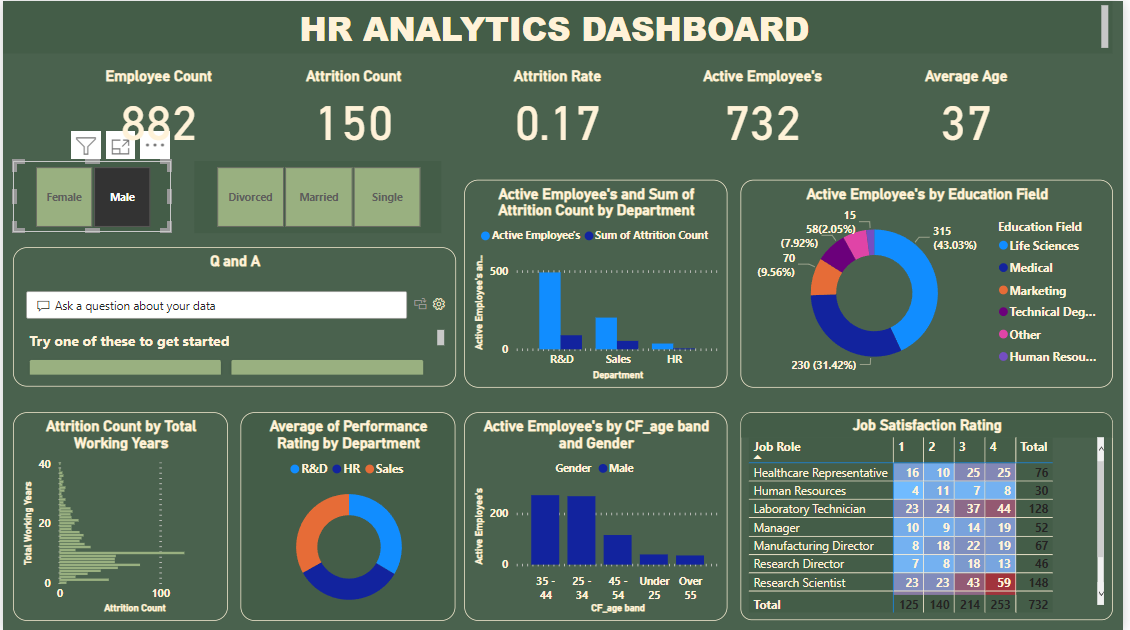

What the dashboard file says about the page in this screenshot:
{"tool":"powerbi","page":{"name":"Page 1","canvas":[1280,720],"ordinal":0},"visuals":[{"type":"card","title":"Employee Count","fields":{"Values":["Sum(HR data.Employee Count)"]},"box":[96.1,75.5,164.7,94.7],"z":0,"group":"g1"},{"type":"card","title":"Attrition Count","fields":{"Values":["Sum(HR data.Attrition Count)"]},"box":[318.9,76,164.7,94.7],"z":1000,"group":"g1"},{"type":"card","title":"Average Age","fields":{"Values":["Avg(HR data.Age)"]},"box":[1018.8,76,164.7,94.7],"z":2000,"group":"g1"},{"type":"card","title":"Active Employee''s","fields":{"Values":["HR data.Active Employee's"]},"box":[785.5,76,164.7,94.7],"z":3000,"group":"g1"},{"type":"card","title":"Attrition Rate","fields":{"Values":["HR data.Attrition Rate"]},"box":[552.2,76,164.7,94.7],"z":4000,"group":"g1"},{"type":"clusteredColumnChart","fields":{"Category":["HR data.Department"],"Y":["HR data.Active Employee's","Sum(HR data.Attrition Count)"]},"box":[526.9,204.5,300.5,237.4],"z":5000},{"type":"donutChart","fields":{"Y":["HR data.Active Employee's"],"Category":["HR data.Education Field"]},"box":[842.5,204.5,425.4,237.4],"z":6000},{"type":"columnChart","fields":{"Category":["HR data.CF_age band"],"Y":["HR data.Active Employee's"],"Series":["HR data.Gender"]},"box":[526.9,470.7,300.5,238.8],"z":7000},{"type":"pivotTable","title":"Job Satisfaction Rating","fields":{"Rows":["HR data.Job Role"],"Values":["HR data.Active Employee's"],"Columns":["HR data.Job Satisfaction"]},"box":[842.5,470.7,425.4,237.4],"z":8000},{"type":"donutChart","fields":{"Y":["Avg(HR data.Performance Rating)"],"Category":["HR data.Department"]},"box":[271.7,470.7,245.6,238.8],"z":9000},{"type":"qnaVisual","title":"Q and A","box":[11,281.3,506.3,159.2],"z":10000},{"type":"clusteredBarChart","title":" Attrition Count by Total Working Years","fields":{"Category":["HR data.Total Working Years"],"Y":["CountNonNull(HR data.Attrition Count)"]},"box":[11,470.7,245.6,238.8],"z":10001},{"type":"slicer","fields":{"Values":["HR data.Gender"]},"box":[11,182.5,181.1,82.3],"z":10002},{"type":"slicer","fields":{"Values":["HR data.Marital Status"]},"box":[218.2,182.5,282.7,82.3],"z":10003},{"type":"group","id":"g1","title":"Group 1","box":[96.1,75.5,1086.8,94.7],"z":10004},{"type":"textbox","box":[0,0,1267.9,60.4],"z":10005}]}

Visuals, with their boxes in screenshot pixels (x1, y1, x2, y2), scaled from the page's 1280x720 canvas onto the 1130x630 screenshot:
"Employee Count" card: box(85, 66, 230, 149)
"Attrition Count" card: box(282, 66, 427, 149)
"Average Age" card: box(899, 66, 1045, 149)
"Active Employee''s" card: box(693, 66, 839, 149)
"Attrition Rate" card: box(487, 66, 633, 149)
clusteredColumnChart - HR data.Department x HR data.Active Employee's: box(465, 179, 730, 387)
donutChart - HR data.Active Employee's x HR data.Education Field: box(744, 179, 1119, 387)
columnChart - HR data.CF_age band x HR data.Active Employee's: box(465, 412, 730, 621)
"Job Satisfaction Rating" pivotTable: box(744, 412, 1119, 620)
donutChart - Avg(HR data.Performance Rating) x HR data.Department: box(240, 412, 457, 621)
"Q and A" qnaVisual: box(10, 246, 457, 385)
" Attrition Count by Total Working Years" clusteredBarChart: box(10, 412, 227, 621)
slicer - HR data.Gender: box(10, 160, 170, 232)
slicer - HR data.Marital Status: box(193, 160, 442, 232)
"Group 1" group: box(85, 66, 1044, 149)
textbox: box(0, 0, 1119, 53)
